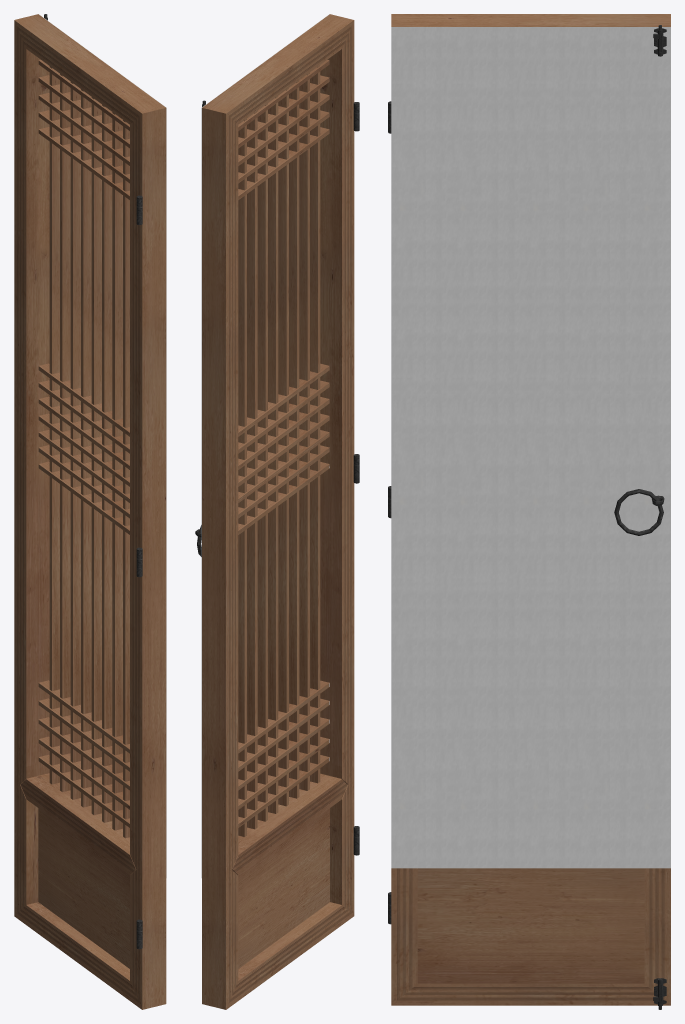
The model's file is SM_JSH_WindowD.fbx.
3 views of the same model, side by side, from view 1: azimuth 30°, elevation 25°; view 2: azimuth 150°, elevation 25°; view 3: azimuth 270°, elevation 25° (orthographic). The views are drawn at different scales.
Visible parts, largest first — view 1: SM_JSH_WindowD; view 2: SM_JSH_WindowD; view 3: SM_JSH_WindowD.
Boxes of the visible parts, x1,y1,x2,y2 form: SM_JSH_WindowD: (14,14,166,1009); SM_JSH_WindowD: (195,14,359,1009); SM_JSH_WindowD: (388,14,670,1009).
Size of the model in its own units: 9.62 by 53.06 by 204.
1 material, 1 textured.
